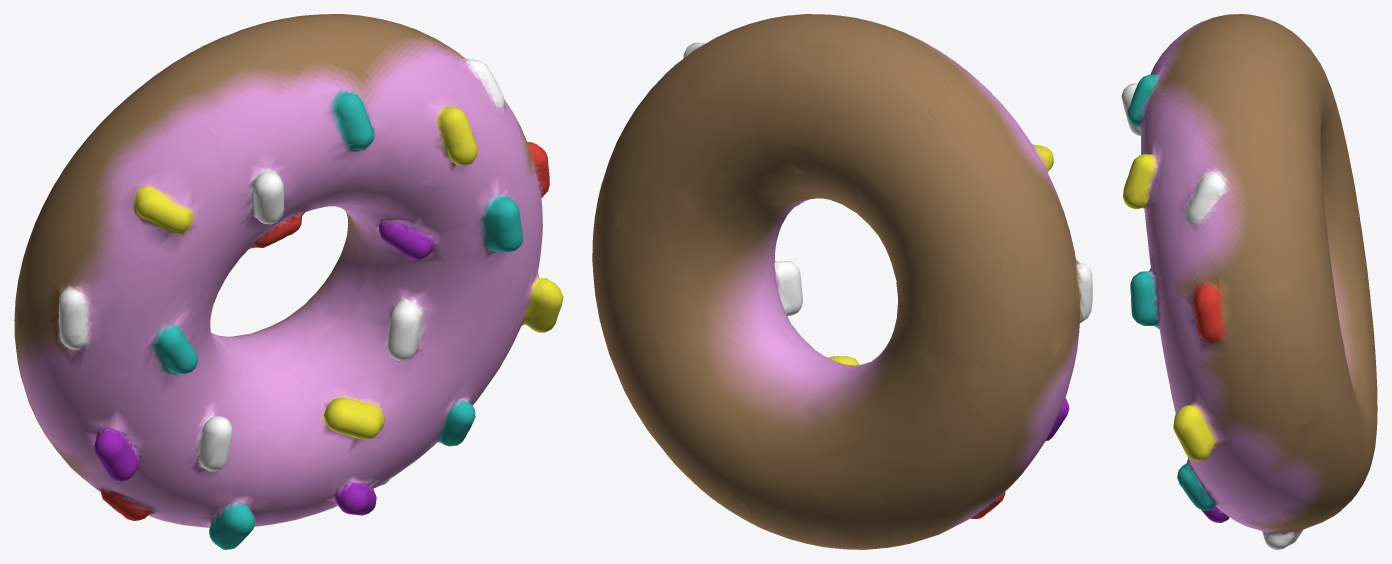
The model's file is mediumdoughnut1.obj.
3 renders of one model, left to right at view 1: azimuth 30°, elevation 25°; view 2: azimuth 150°, elevation 25°; view 3: azimuth 270°, elevation 25°, orthographic. The views are drawn at different scales.
Visible parts, largest first — view 1: Layer_1; view 2: Layer_1; view 3: Layer_1.
Part boxes in pixels (bbox=[...]): Layer_1: bbox=[14, 14, 563, 549]; Layer_1: bbox=[592, 14, 1092, 549]; Layer_1: bbox=[1121, 14, 1377, 549].
Size of the model in its own units: 0.1303 by 0.1289 by 0.0637.
Materials: 1 (1 with a texture image).
